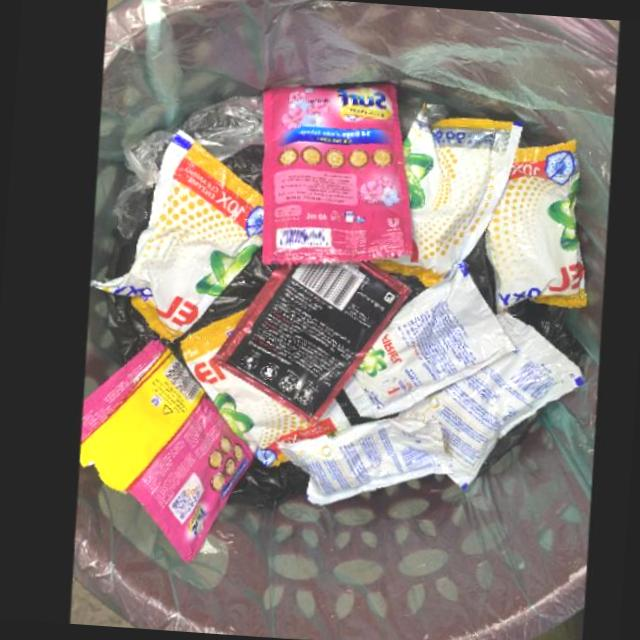goi_nhua_nho: (74, 340, 251, 563), (86, 129, 260, 341), (392, 314, 578, 492), (210, 263, 408, 424), (257, 81, 413, 269), (365, 108, 522, 289), (176, 310, 346, 469), (338, 265, 511, 421), (481, 143, 583, 316), (268, 421, 445, 510)
